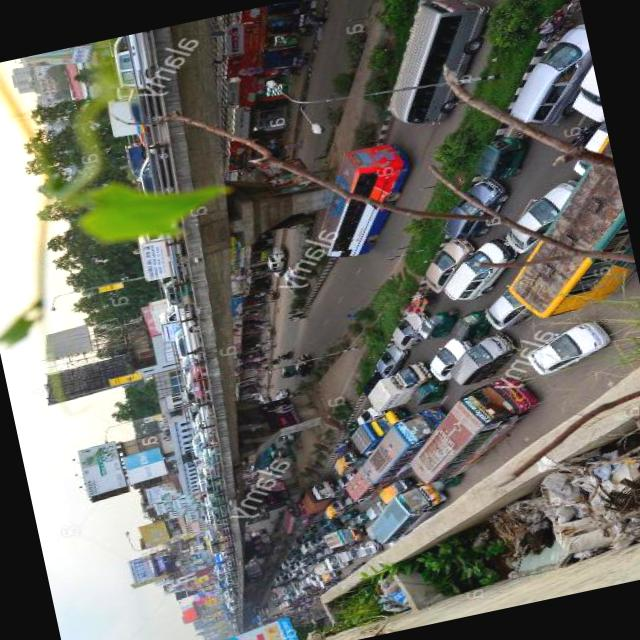bus: (479, 137, 638, 324), (387, 370, 548, 484), (363, 0, 488, 128), (297, 138, 421, 265), (348, 402, 452, 485), (358, 476, 450, 544), (274, 497, 316, 534), (372, 476, 414, 504), (320, 522, 364, 548), (202, 522, 229, 552), (330, 447, 358, 474), (247, 444, 273, 470), (270, 578, 298, 595), (321, 498, 344, 518), (212, 560, 226, 578), (319, 568, 340, 580), (212, 576, 226, 590)
car: (492, 23, 598, 132), (493, 177, 580, 251), (433, 174, 512, 243), (520, 315, 610, 375), (448, 331, 518, 384), (106, 30, 157, 92), (474, 280, 530, 332), (130, 138, 172, 196), (415, 237, 456, 292), (418, 334, 462, 380), (382, 308, 427, 350), (122, 82, 160, 128), (369, 338, 408, 378), (170, 316, 202, 359), (180, 358, 208, 398), (120, 140, 148, 177), (190, 402, 213, 438), (264, 242, 286, 278), (288, 349, 312, 378), (280, 260, 300, 292), (352, 402, 381, 424), (360, 498, 382, 520), (330, 469, 354, 488), (198, 443, 218, 465), (306, 572, 322, 588), (270, 386, 286, 398), (248, 526, 264, 536), (276, 558, 288, 570), (289, 556, 302, 566), (280, 432, 292, 442), (270, 573, 280, 583), (198, 512, 206, 524), (278, 598, 289, 606), (265, 592, 274, 600), (196, 494, 202, 504)
motorcycle: (466, 130, 532, 184), (526, 0, 582, 44), (445, 306, 489, 342), (412, 306, 458, 340), (404, 376, 448, 406), (160, 274, 191, 307), (560, 120, 596, 148), (428, 474, 460, 491), (199, 478, 219, 494), (206, 502, 226, 518), (278, 362, 294, 378), (205, 492, 223, 506), (326, 482, 342, 497), (349, 509, 364, 524), (200, 472, 218, 484), (337, 508, 355, 520), (184, 402, 196, 419), (181, 383, 192, 401), (341, 420, 355, 434), (202, 464, 218, 476), (198, 438, 215, 449), (274, 348, 290, 359), (299, 524, 315, 534), (262, 288, 276, 299), (266, 446, 280, 456), (276, 445, 288, 456), (264, 356, 276, 366), (246, 474, 256, 482)
truck: (439, 234, 518, 300), (356, 360, 431, 410), (344, 404, 406, 452), (134, 226, 186, 280), (100, 80, 146, 140), (294, 475, 338, 515), (154, 300, 193, 340), (306, 546, 348, 574), (187, 430, 204, 454), (296, 536, 314, 552), (192, 468, 205, 490)
